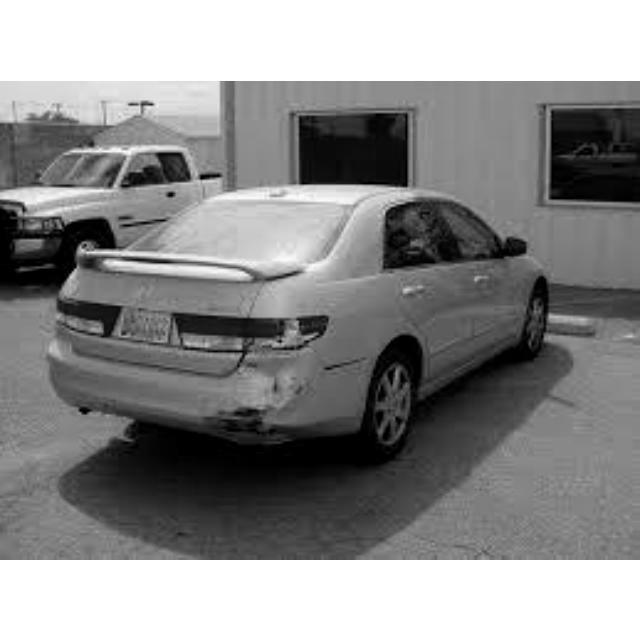rear-bumper-dent: (228, 340, 341, 433)
